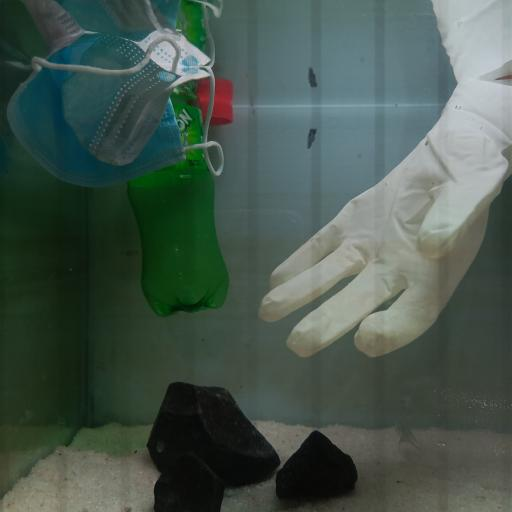bottle_cap: (200, 100, 234, 126)
glove: (258, 108, 512, 359)
mask: (6, 29, 226, 188)
plastic_bottle: (125, 90, 231, 318)
